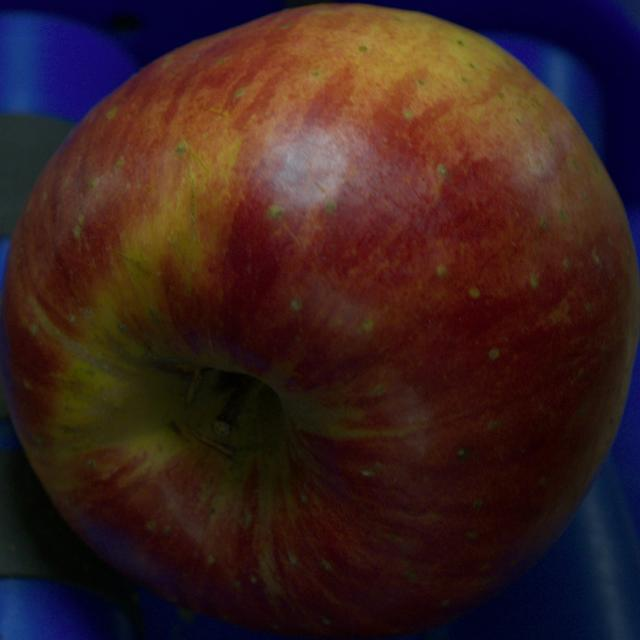apple: (0, 4, 639, 637)
scratch: (193, 429, 235, 459), (186, 368, 201, 406), (216, 421, 228, 426)
